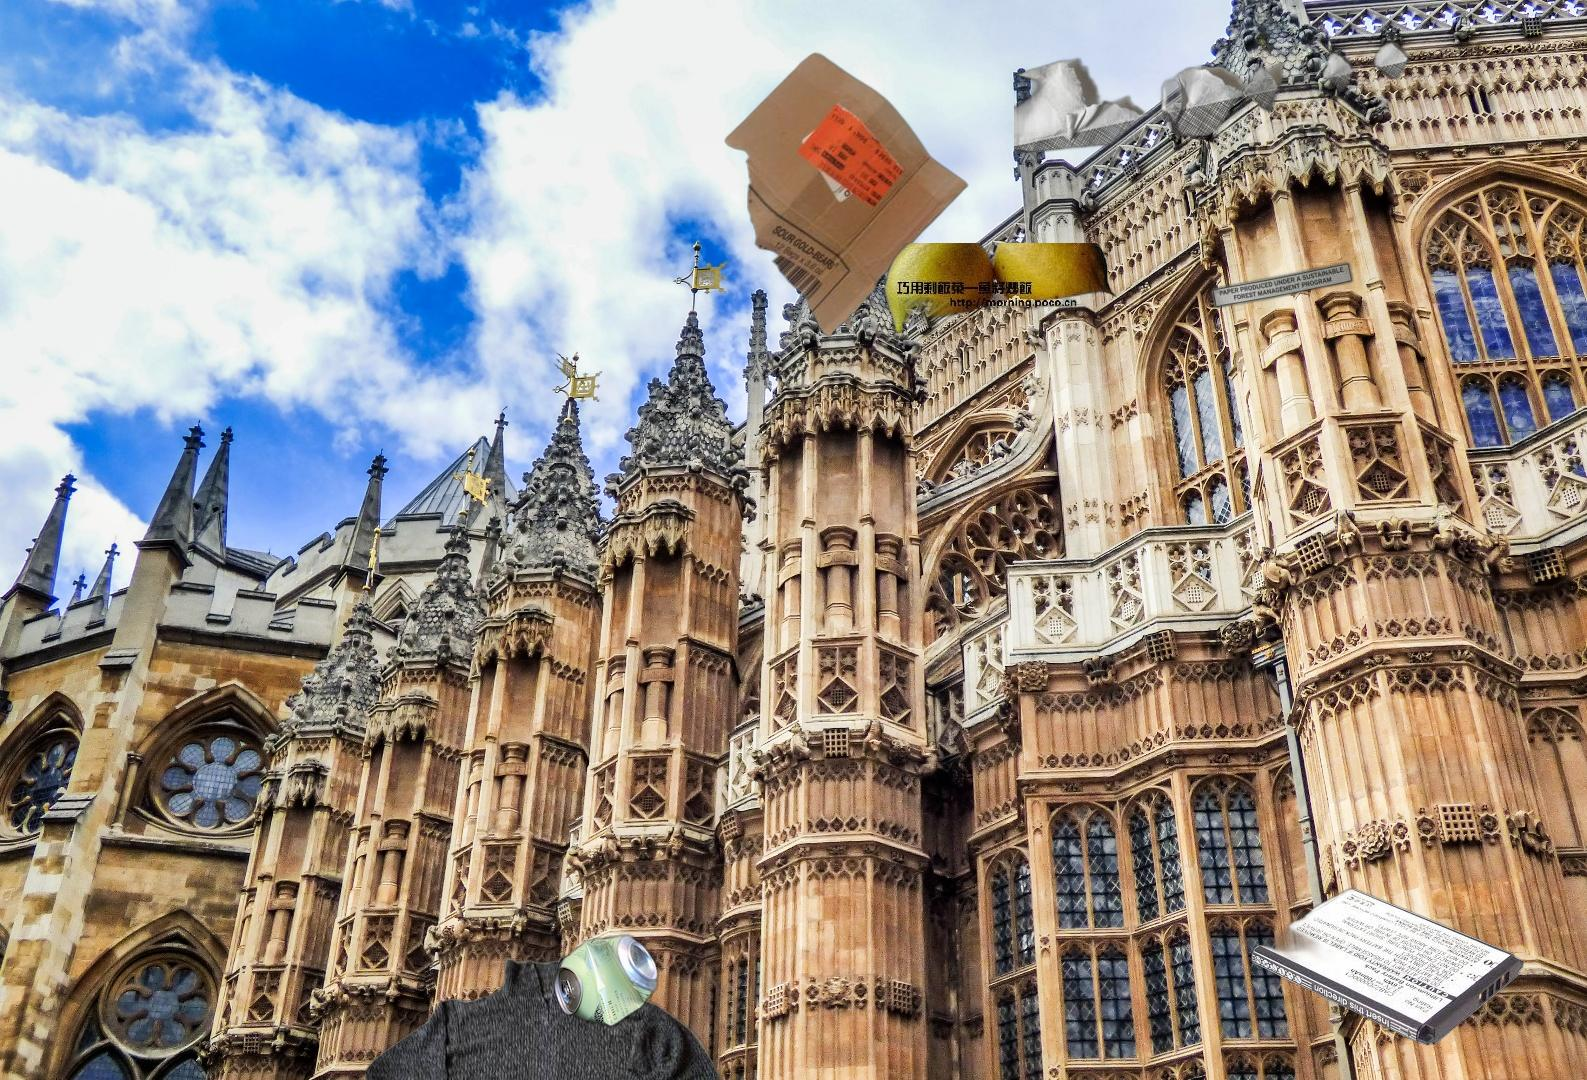battery: (1250, 886, 1526, 1047)
biological: (872, 243, 1136, 582)
clothes: (363, 953, 748, 1080)
metal-cans: (723, 720, 1235, 1080), (549, 929, 662, 1033)
paper: (1013, 39, 1526, 360)
trashbox-cardboard: (721, 49, 972, 340)
